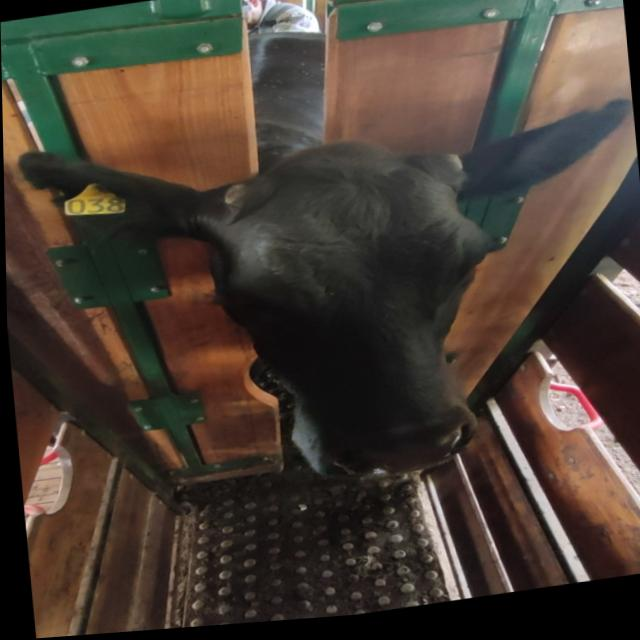cowFace: (207, 136, 508, 502)
